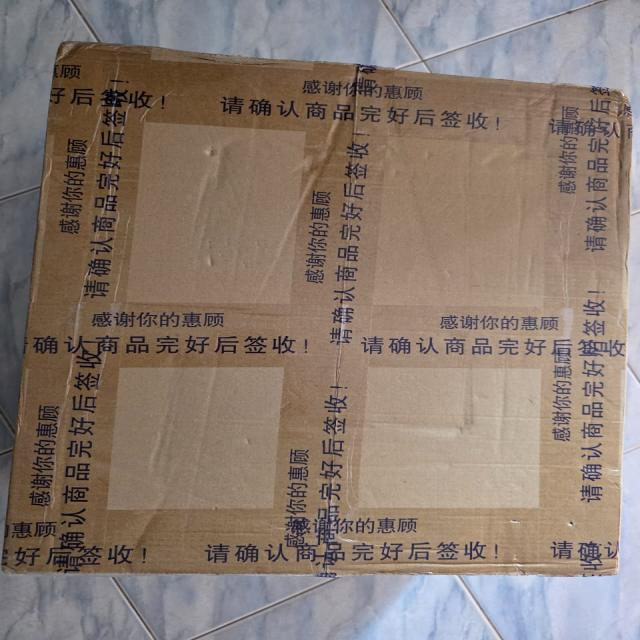carton_box: (6, 33, 640, 588)
